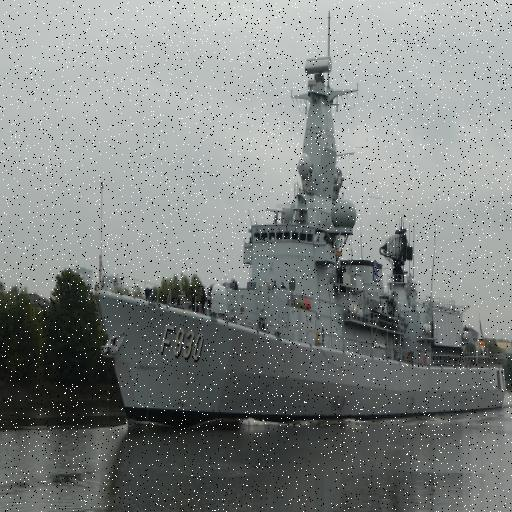Fragata: (85, 54, 512, 438)
